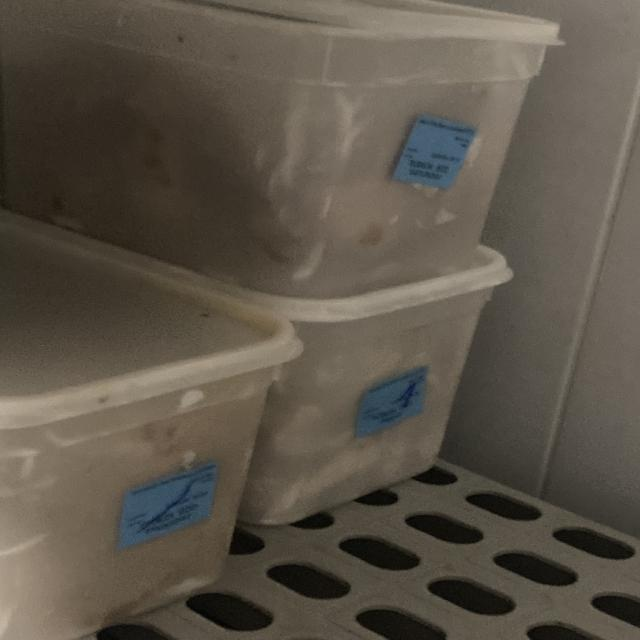product-labels: (101, 459, 235, 550), (388, 102, 480, 205), (342, 363, 443, 439)
